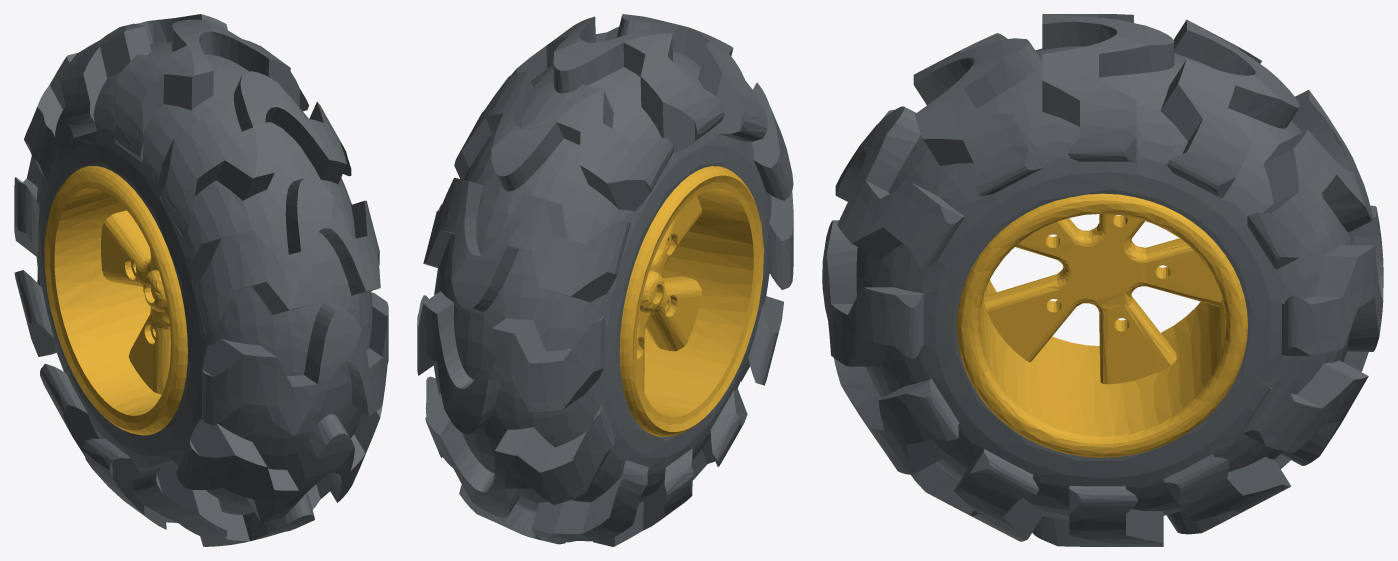
File: tinker.obj
The picture shows the model from 3 angles, left to right: view 1: azimuth 30°, elevation 25°; view 2: azimuth 150°, elevation 25°; view 3: azimuth 270°, elevation 25°; orthographic projection. The views are drawn at different scales.
Parts seen in each view (by area): view 1: group_0_6383466, group_0_14789940; view 2: group_0_6383466, group_0_14789940; view 3: group_0_6383466, group_0_14789940.
Part boxes in pixels (x1=…): group_0_6383466: x1=14, y1=14, x2=388, y2=546; group_0_14789940: x1=44, y1=166, x2=187, y2=435; group_0_6383466: x1=417, y1=14, x2=793, y2=546; group_0_14789940: x1=619, y1=166, x2=763, y2=436; group_0_6383466: x1=822, y1=14, x2=1383, y2=546; group_0_14789940: x1=956, y1=193, x2=1247, y2=457.
Size of the model in its own units: 7.69 by 19 by 19.
